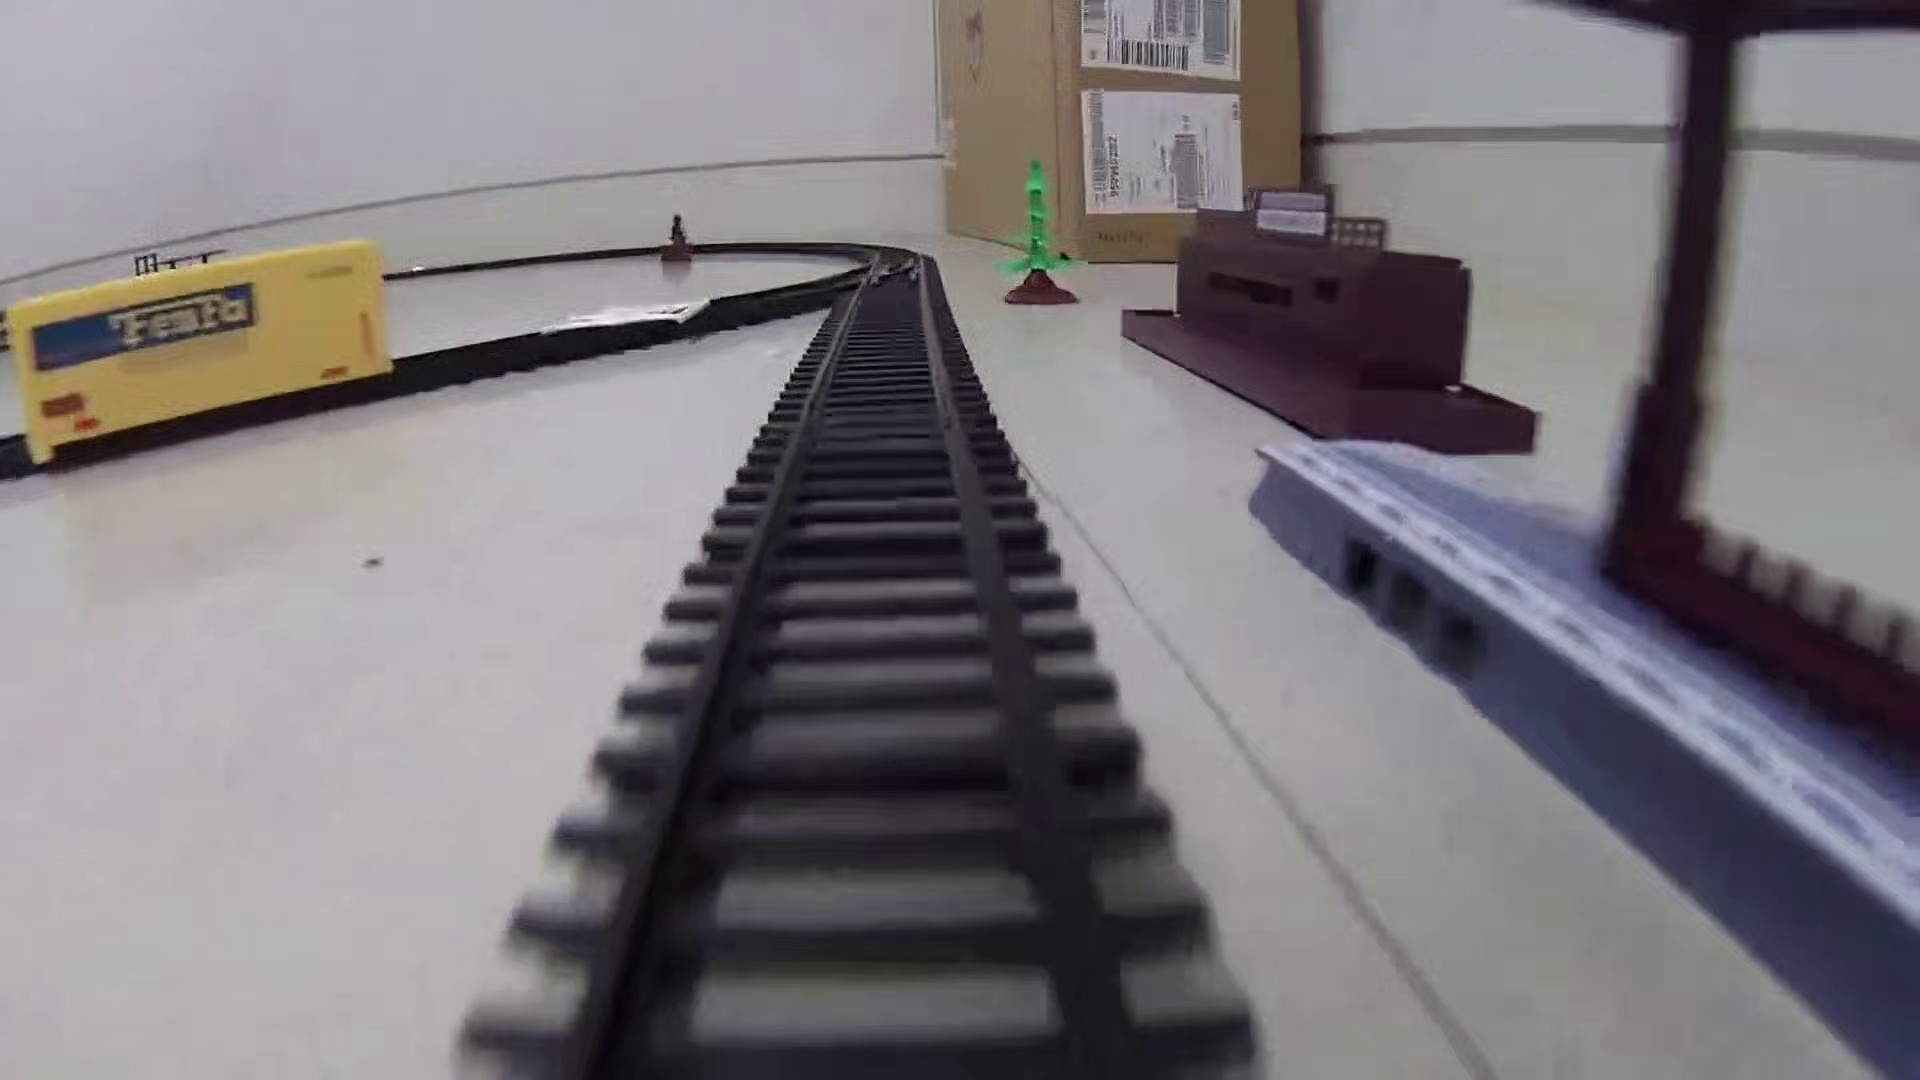people: (661, 210, 694, 259)
tree: (994, 159, 1088, 314)
web: (536, 293, 716, 336)
